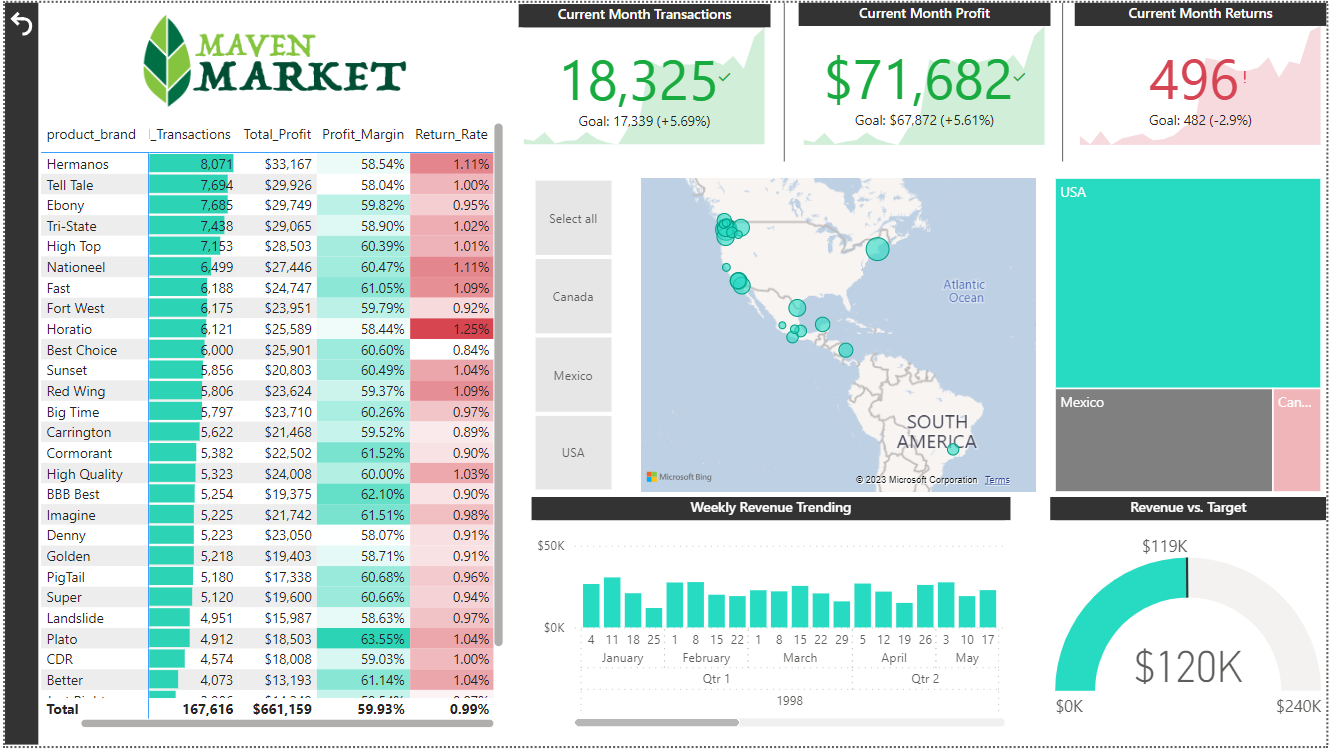

This screenshot's page, from the dashboard's own definition file:
{"tool":"powerbi","page":{"name":"Topline Performance","canvas":[1280,720],"ordinal":0},"visuals":[{"type":"image","box":[31.2,0,457.5,111.2],"z":0},{"type":"pivotTable","fields":{"Rows":["Products.product_brand"],"Values":["New_Measures.Total_Transactions","New_Measures.Total_Profit","New_Measures.Profit_Margin","New_Measures.Return_Rate"]},"box":[30,111.2,457.5,596.2],"z":1000},{"type":"kpi","title":"Current Month Transactions","fields":{"Indicator":["New_Measures.Total_Transactions"],"TrendLine":["Calendar.Start of Month"],"Goal":["New_Measures.Last_Month_Transactions"]},"box":[497.5,1.2,243.8,141.2],"z":2000},{"type":"shape","box":[741.2,0,27.5,153.8],"z":3000},{"type":"kpi","title":"Current Month Profit","fields":{"TrendLine":["Calendar.Start of Month"],"Indicator":["New_Measures.Total_Profit"],"Goal":["New_Measures.Last_Month_Profit"]},"box":[768.8,0,243.8,142.5],"z":4000},{"type":"shape","box":[1012.5,0,23.8,153.8],"z":5000},{"type":"kpi","title":"Current Month Returns","fields":{"TrendLine":["Calendar.Start of Month"],"Indicator":["New_Measures.Total_Returns"],"Goal":["New_Measures.Last_Month_Returns"]},"box":[1036.2,0,243.8,142.5],"z":6000},{"type":"map","fields":{"Category":["Stores.store_city"],"Size":["New_Measures.Total_Transactions"]},"box":[611.2,165,392.5,313.8],"z":7000},{"type":"slicer","fields":{"Values":["Stores.store_country"]},"box":[487.5,165,123.8,313.8],"z":8000},{"type":"treemap","fields":{"Group":["Stores.store_country","Stores.store_state","Stores.store_city"],"Values":["New_Measures.Total_Transactions"]},"box":[1012.5,165,267.5,313.8],"z":9000},{"type":"clusteredColumnChart","title":"Weekly Revenue Trending","fields":{"Y":["New_Measures.Total_Revenue"],"Category":["Calendar.Start of Week.Variation.Date Hierarchy.Year","Calendar.Start of Week.Variation.Date Hierarchy.Quarter","Calendar.Start of Week.Variation.Date Hierarchy.Month","Calendar.Start of Week.Variation.Date Hierarchy.Day"]},"box":[510,478.8,463.8,227.5],"z":10000},{"type":"gauge","title":"Revenue vs. Target","fields":{"Y":["New_Measures.Total_Revenue"],"TargetValue":["New_Measures.Revenue_Target"]},"box":[1012.5,478.8,267.5,228.8],"z":11000},{"type":"shape","box":[0,0,31.7,718.3],"z":12000},{"type":"actionButton","box":[0,0,31.7,40],"z":13000}]}

Visuals, with their boxes on the page's 1280x720 design canvas (x1, y1, x2, y2). These are canvas units, not pixel positions in the 1333x751 screenshot, which may show the page scaled, cropped or inside an application window:
image: (31,0,489,111)
pivotTable - Products.product_brand x New_Measures.Total_Transactions: (30,111,488,707)
"Current Month Transactions" kpi: (498,1,741,142)
shape: (741,0,769,154)
"Current Month Profit" kpi: (769,0,1013,142)
shape: (1012,0,1036,154)
"Current Month Returns" kpi: (1036,0,1280,142)
map - Stores.store_city x New_Measures.Total_Transactions: (611,165,1004,479)
slicer - Stores.store_country: (488,165,611,479)
treemap - Stores.store_country x Stores.store_state: (1012,165,1280,479)
"Weekly Revenue Trending" clusteredColumnChart: (510,479,974,706)
"Revenue vs. Target" gauge: (1012,479,1280,708)
shape: (0,0,32,718)
actionButton: (0,0,32,40)
